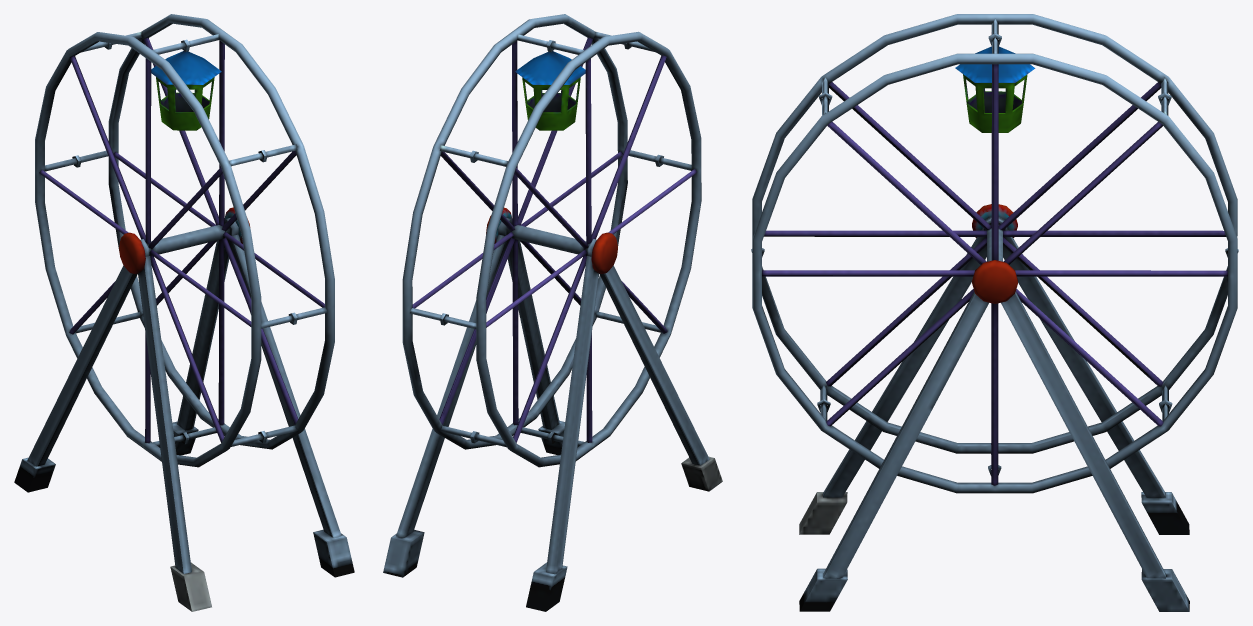
Rendered from Wheel_Of_View.fbx.
The picture shows the model from 3 angles, left to right: view 1: azimuth 30°, elevation 25°; view 2: azimuth 150°, elevation 25°; view 3: azimuth 270°, elevation 25°; orthographic projection. The views are drawn at different scales.
Parts seen in each view (by area): view 1: wheel_mesh, stand_mesh, cabin_mesh; view 2: wheel_mesh, stand_mesh, cabin_mesh; view 3: wheel_mesh, stand_mesh, cabin_mesh.
Part boxes in pixels (x1,y1,x2,y2): wheel_mesh: (35,14,334,467); stand_mesh: (14,234,354,611); cabin_mesh: (151,51,221,130); wheel_mesh: (402,14,701,467); stand_mesh: (383,234,722,611); cabin_mesh: (515,51,585,130); wheel_mesh: (751,14,1238,493); stand_mesh: (799,229,1189,611); cabin_mesh: (955,46,1035,132).
Bounding box in the file's own units: 4.21 × 12.02 × 9.91.
